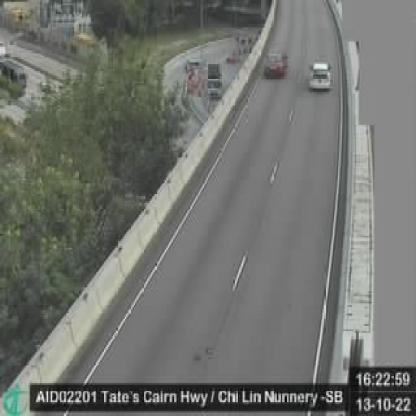Car: (0, 56, 29, 94), (264, 49, 288, 79), (308, 59, 331, 90)
